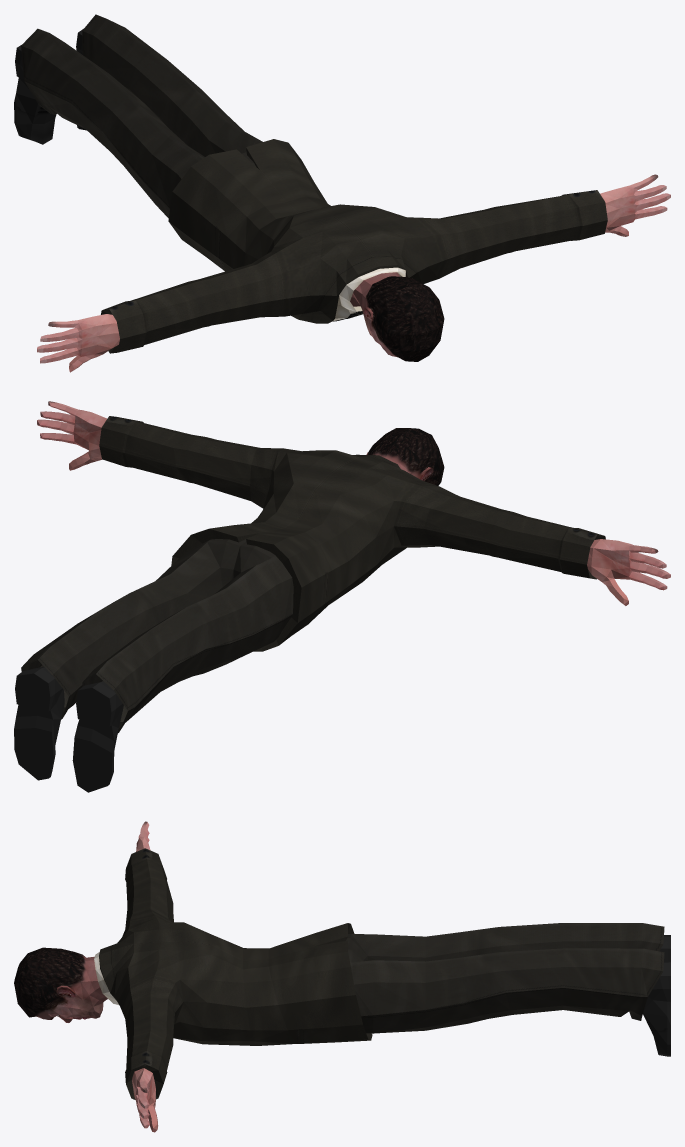
Rendered from tomdrinman3_3k_wtf.obj.
3 renders of one model, top to bottom at view 1: azimuth 30°, elevation 25°; view 2: azimuth 150°, elevation 25°; view 3: azimuth 270°, elevation 25°, orthographic. The views are drawn at different scales.
Visible parts, largest first — view 1: group1; view 2: group1; view 3: group1.
Part boxes in pixels (left/top/right/bottom): group1: left=14, top=14, right=670, bottom=372; group1: left=14, top=401, right=670, bottom=792; group1: left=14, top=821, right=670, bottom=1132.
Bounding box in the file's own units: 660 × 121 × 654.
